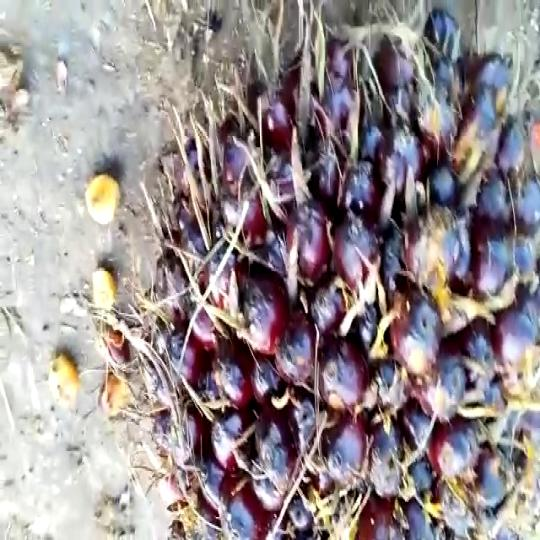kurang masak: (137, 4, 540, 540)
